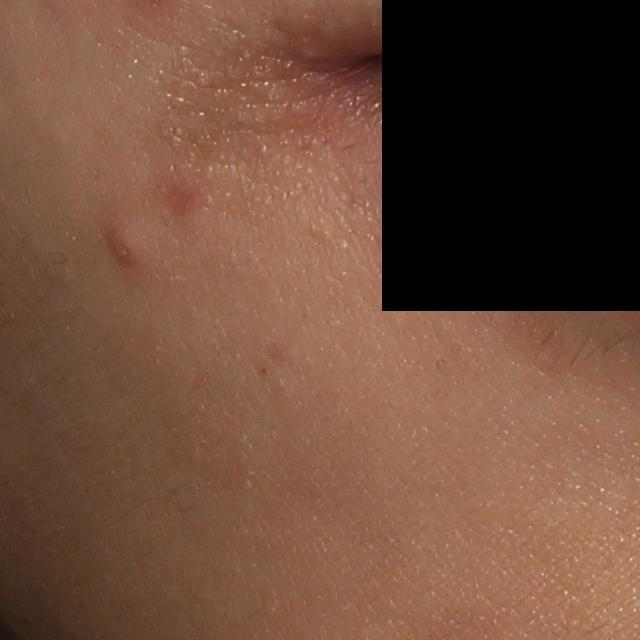papule: (102, 224, 153, 271)
